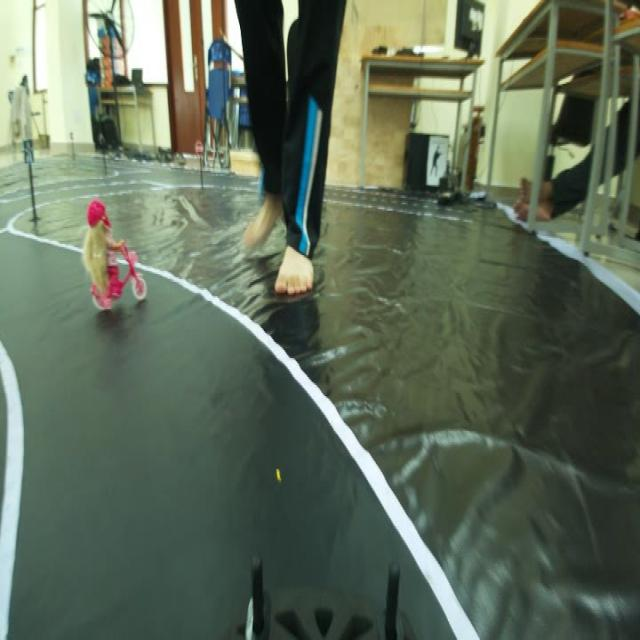pedestrian: (70, 197, 144, 312)
